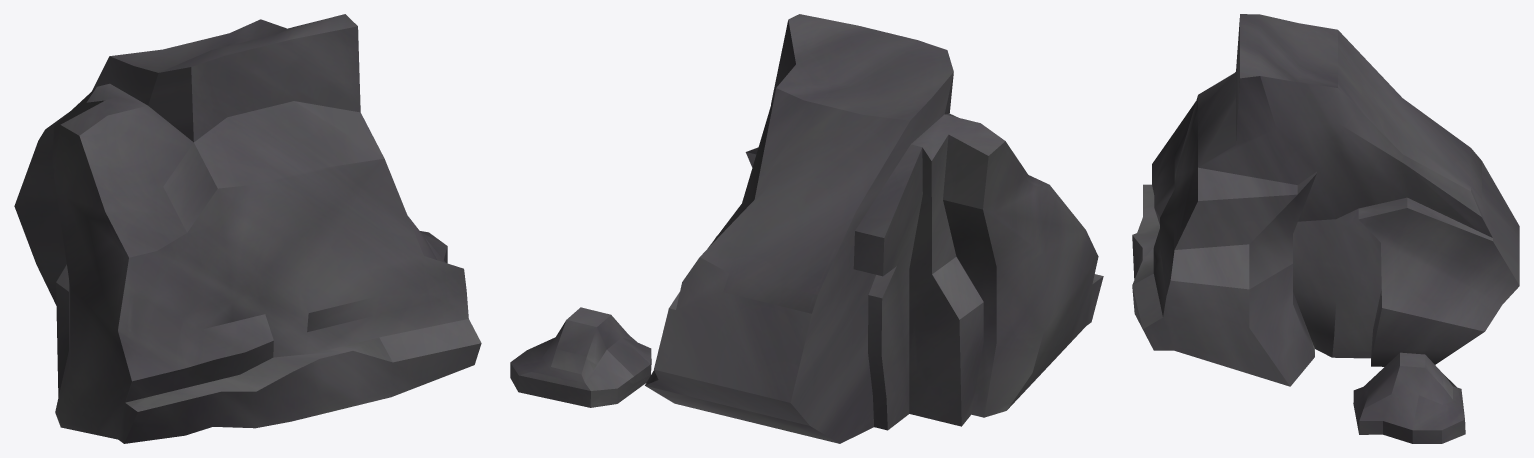
The model's file is batu6.fbx.
3 views of the same model, side by side, from view 1: azimuth 30°, elevation 25°; view 2: azimuth 150°, elevation 25°; view 3: azimuth 270°, elevation 25° (orthographic). The views are drawn at different scales.
Parts seen in each view (by area): view 1: batu5; view 2: batu5; view 3: batu5.
Boxes of the visible parts, left/top/right/bottom form: batu5: left=14, top=14, right=481, bottom=443; batu5: left=510, top=14, right=1103, bottom=443; batu5: left=1132, top=14, right=1519, bottom=443.
Bounding box in the file's own units: 334 × 245 × 296.
